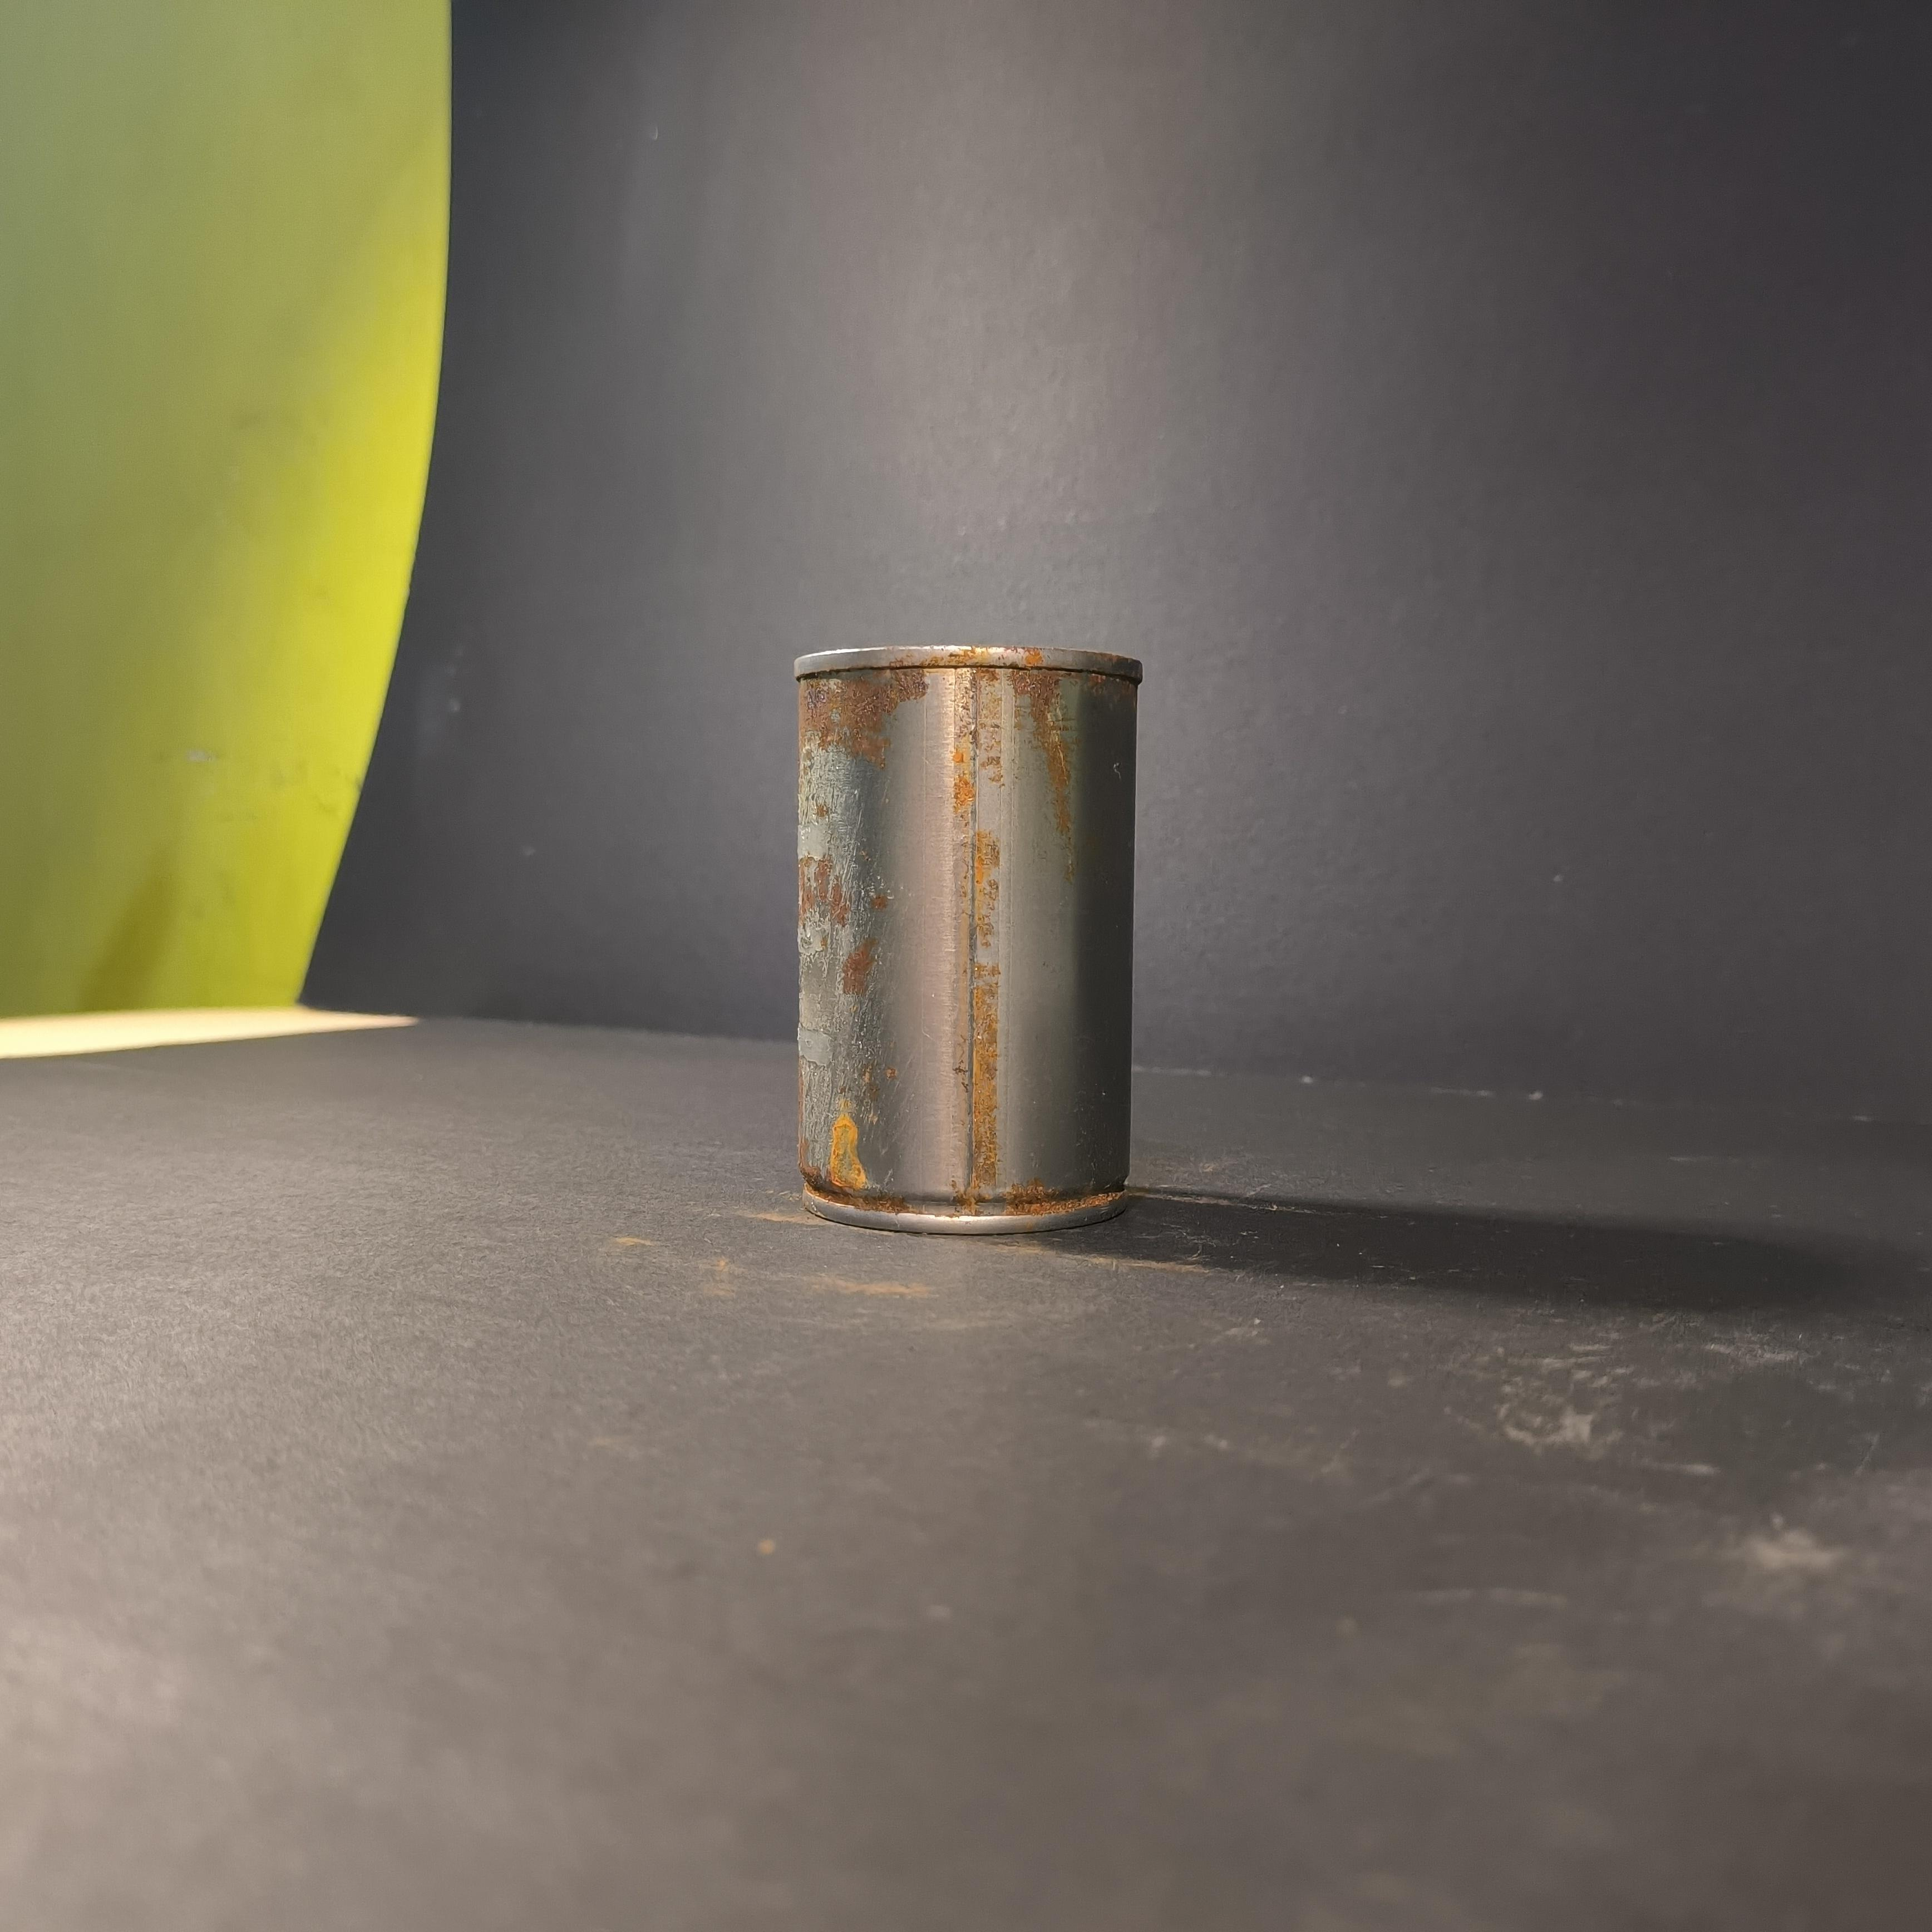Rusted: (776, 607, 1171, 1244)
